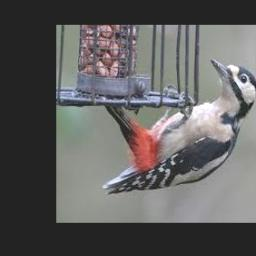Woodpecker: (103, 59, 256, 195)
